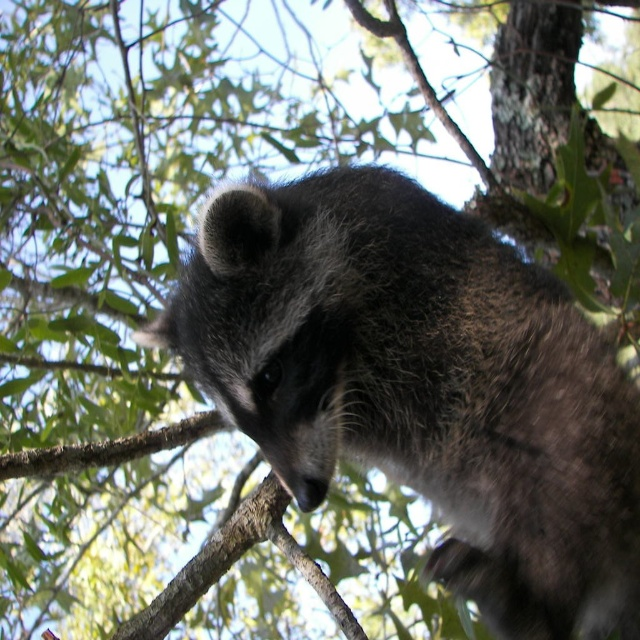Raccoon: (132, 167, 640, 639)
